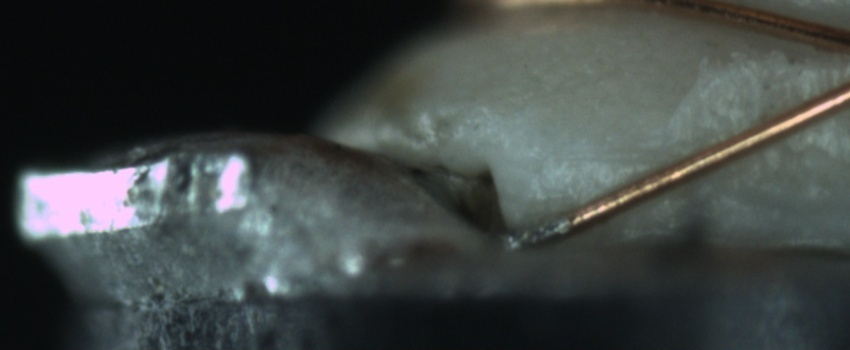DL: (535, 125, 684, 189)
TS: (504, 217, 575, 250)
